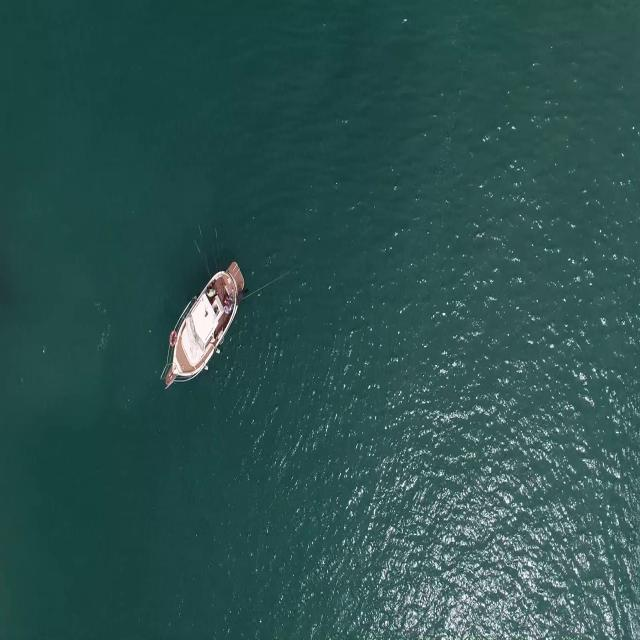boat: (159, 260, 245, 384)
life_buoy: (169, 324, 179, 348)
person: (204, 284, 220, 298), (222, 302, 233, 317)
